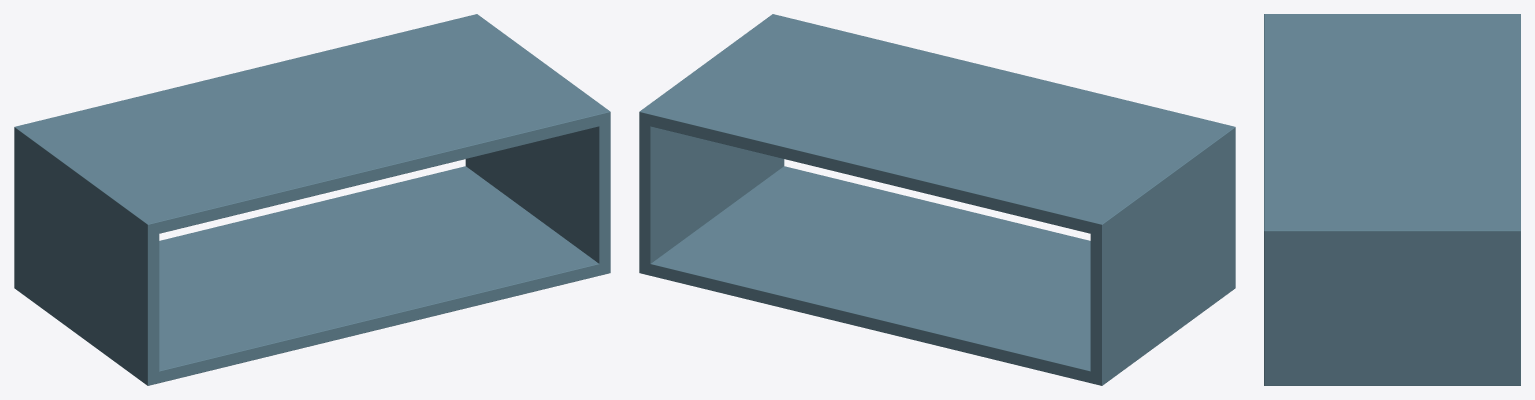
Rendered from MOD-2X07-A-O-AC.glb.
3 renders of one model, left to right at view 1: azimuth 30°, elevation 25°; view 2: azimuth 150°, elevation 25°; view 3: azimuth 270°, elevation 25°, orthographic. The views are drawn at different scales.
Bounding box in the file's own units: 720 × 240 × 360.
